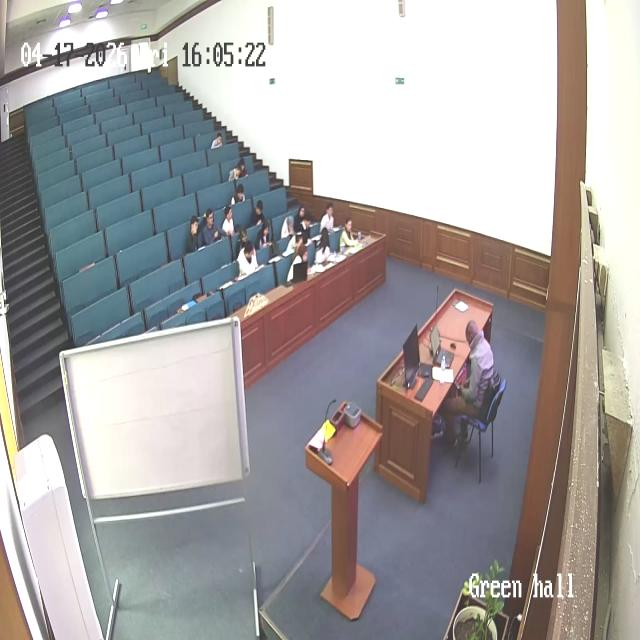person: (444, 319, 496, 453), (286, 237, 309, 283), (236, 234, 258, 276), (200, 208, 220, 247), (313, 227, 333, 263), (187, 215, 203, 254), (339, 217, 357, 251), (293, 204, 310, 236), (256, 220, 274, 250), (248, 198, 266, 228), (280, 211, 298, 240), (221, 204, 235, 240), (320, 203, 334, 232), (229, 158, 245, 182), (231, 184, 245, 211), (210, 132, 223, 150)
